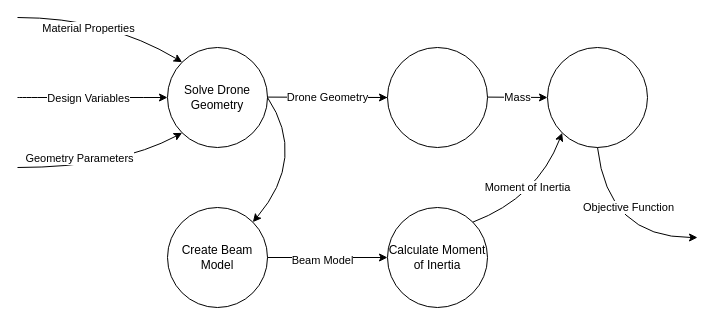
The diagram is 714 pixels wide and 325 high, and some of its shapes have lost their labels. Here are the shapes that lost their labels. From the top down, the centre of each, then its label:
the point at 437,97: Calculate Mass
the point at 597,97: Calculate Objective
